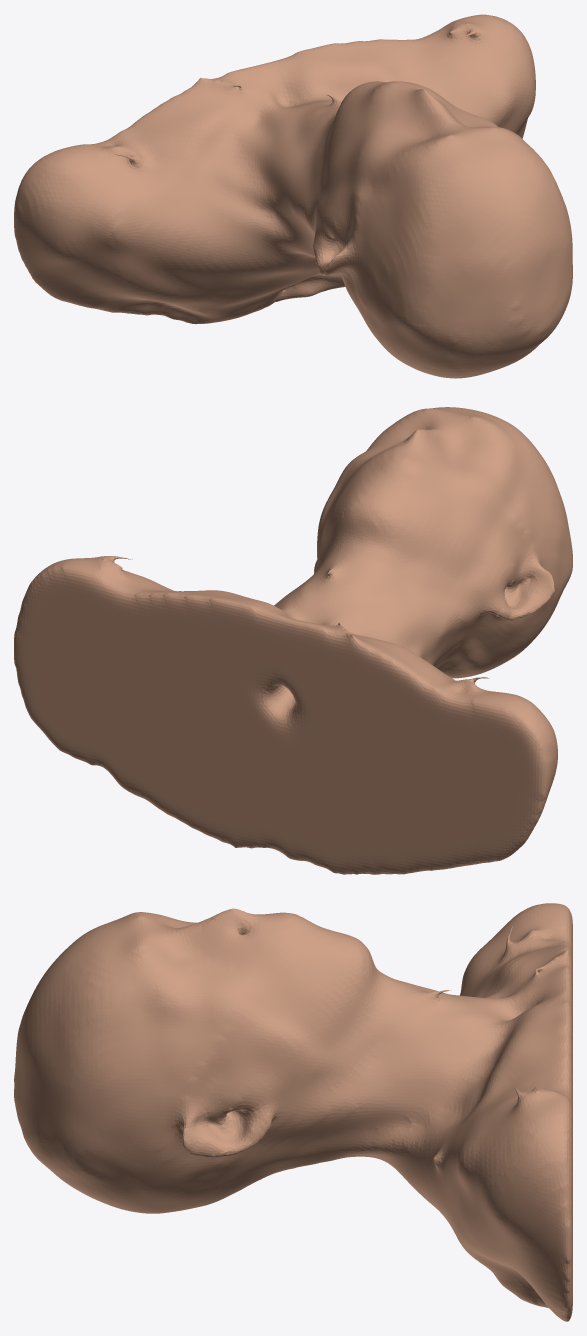
Rendered from headneck_skin.glb.
The picture shows the model from 3 angles, top to bottom: view 1: azimuth 30°, elevation 25°; view 2: azimuth 150°, elevation 25°; view 3: azimuth 270°, elevation 25°; orthographic projection. The views are drawn at different scales.
Visible parts, largest first — view 1: world; view 2: world; view 3: world.
Part boxes in pixels (x1,y1,x2,y2): world: (14,14,572,378); world: (14,407,572,874); world: (14,903,572,1321).
Size of the model in its own units: 449 by 258 by 362.
